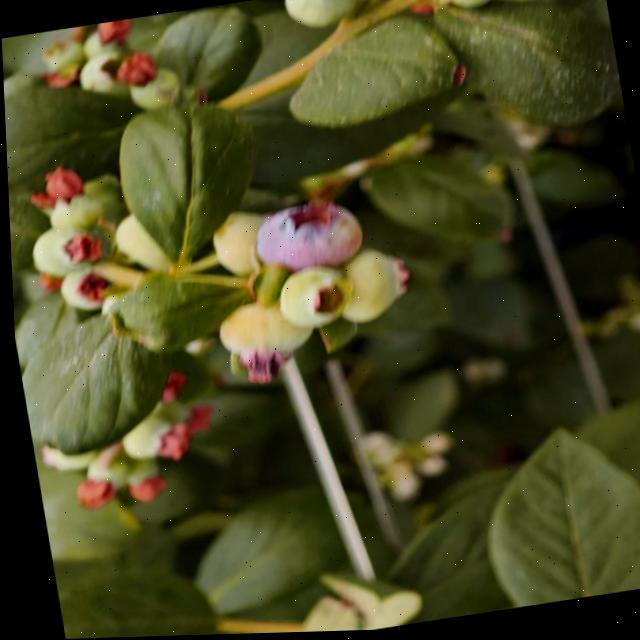Semi-RipeBlueBerry: (246, 194, 368, 275)
UnripeBlueBerry: (209, 294, 314, 370), (333, 243, 415, 330), (268, 263, 355, 335), (26, 218, 105, 278), (41, 178, 103, 236), (115, 410, 182, 461), (123, 57, 182, 111)
